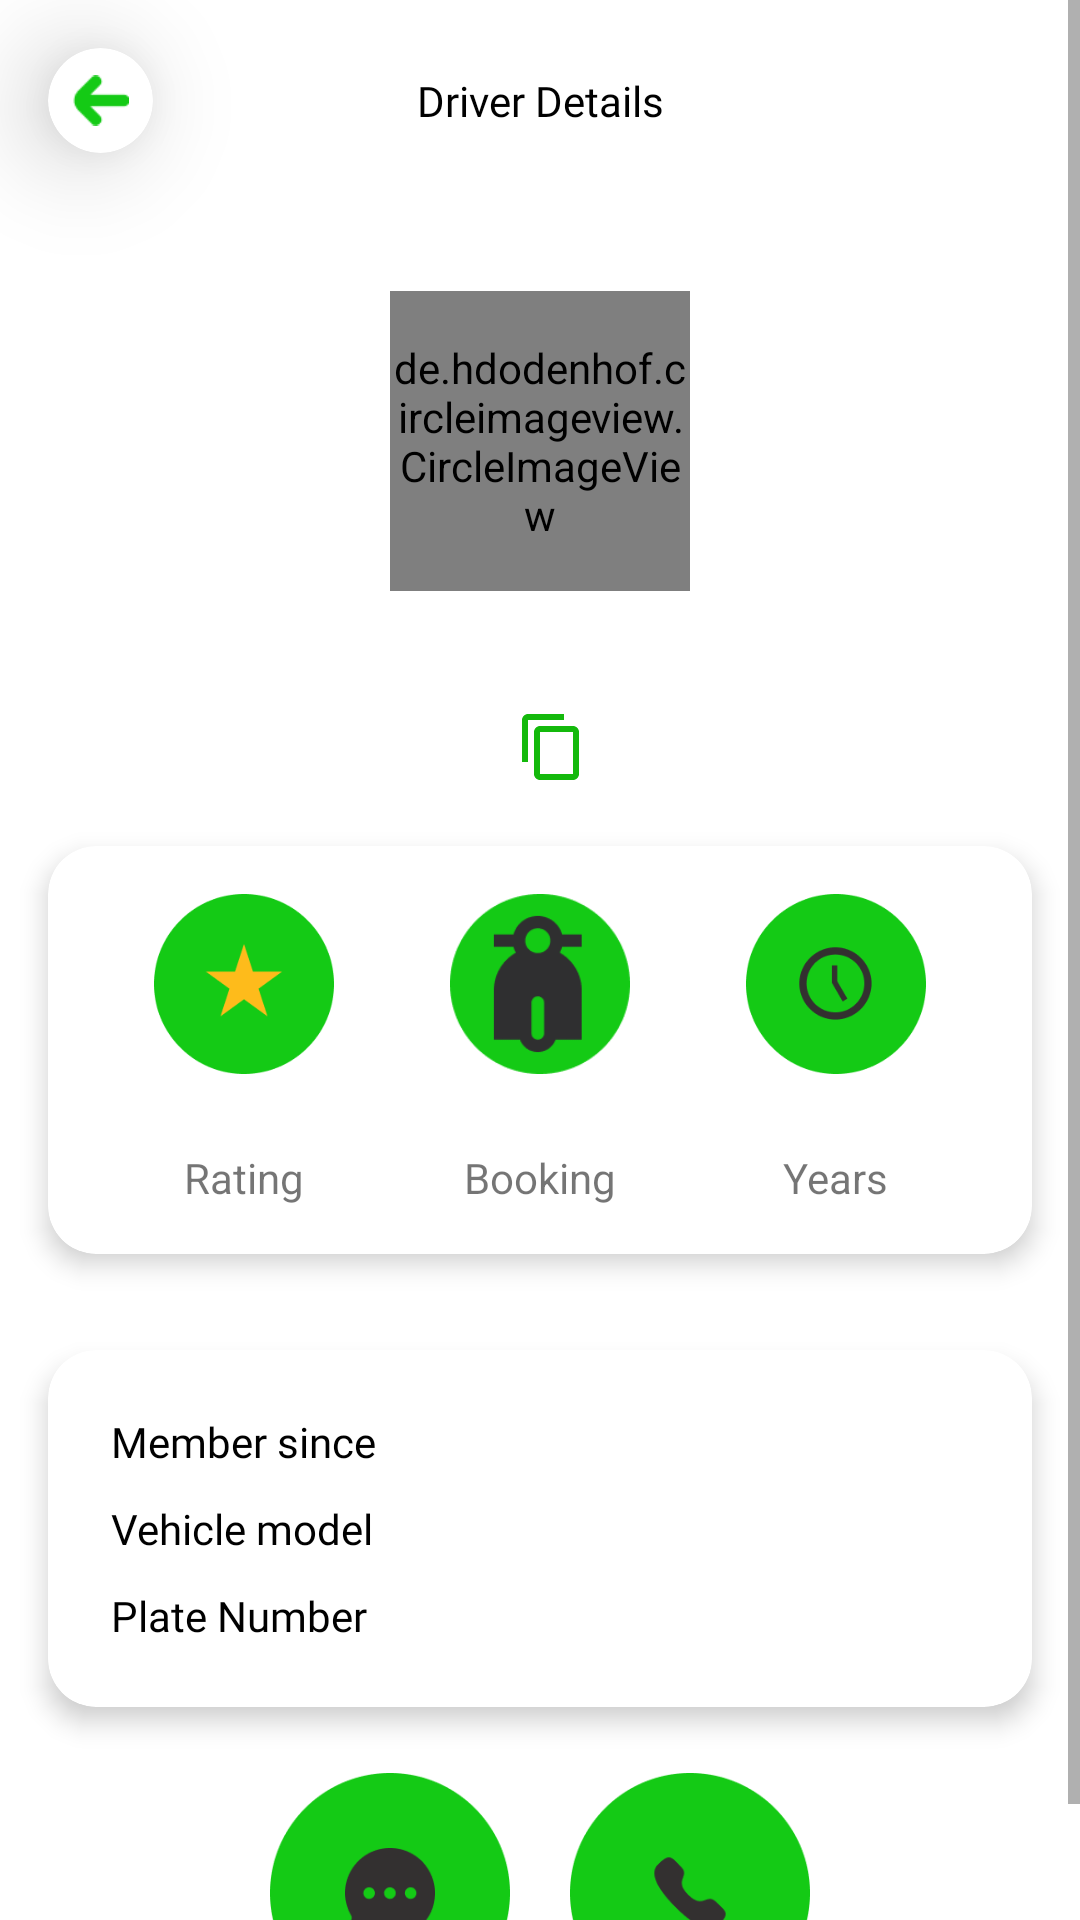

Named icons in this screenshot (1080px x 1920px) and their bounding boxes, (x1, y1, x2, y2):
arrow back: (48, 48, 153, 153)
bike: (450, 894, 630, 1074)
duration: (746, 894, 926, 1074)
